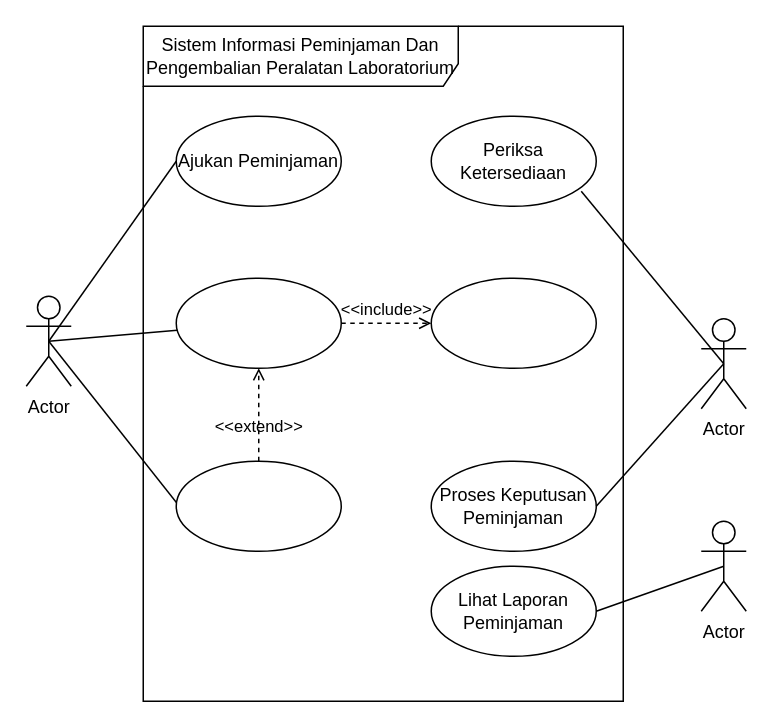
This 773x728 diagram has some shape labels left out. The shapes that lost their labels are listed below. From the top down, each one's centre as x and y in pixels, then its label:
(x=258, y=322): Liaht Ketersediaan Peralatan
(x=513, y=322): Kelola Data Peralatan
(x=258, y=505): Cetak Bukti Pengajuan
